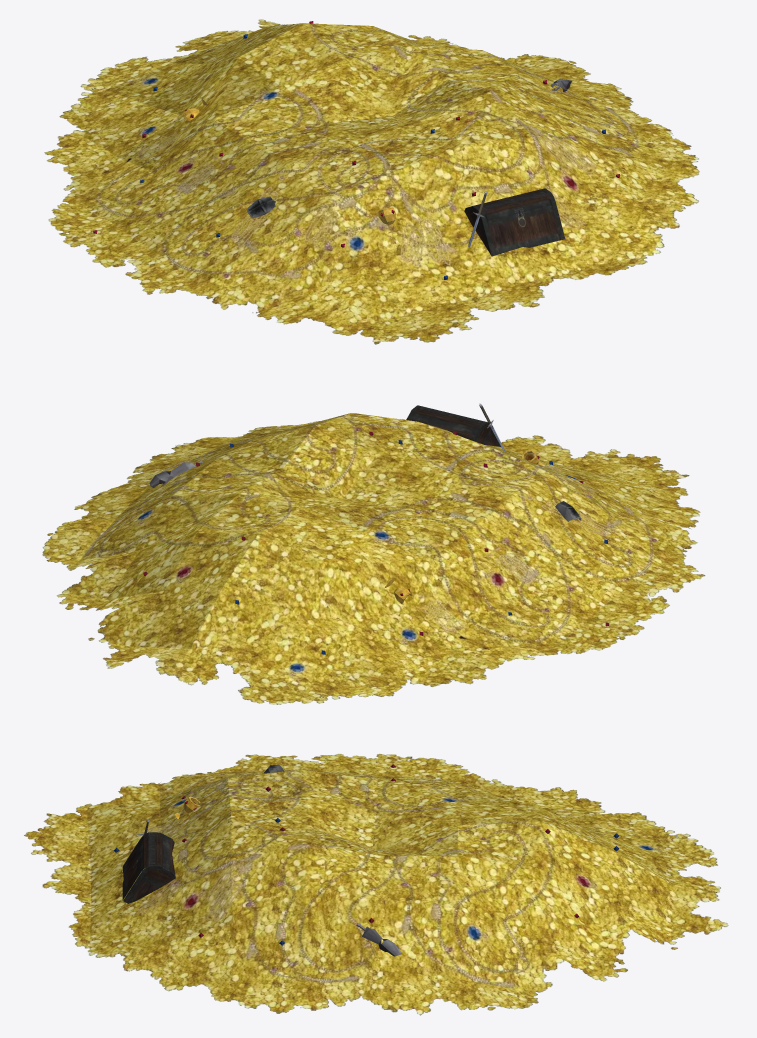
File: Gold_Bed.glb
The picture shows the model from 3 angles, top to bottom: view 1: azimuth 30°, elevation 25°; view 2: azimuth 150°, elevation 25°; view 3: azimuth 270°, elevation 25°; orthographic projection. The views are drawn at different scales.
Visible parts, largest first — view 1: Gold_Bed; view 2: Gold_Bed; view 3: Gold_Bed.
Boxes of the visible parts, left/top/right/bottom form: Gold_Bed: left=44, top=19, right=699, bottom=344; Gold_Bed: left=42, top=403, right=705, bottom=704; Gold_Bed: left=24, top=754, right=728, bottom=1015.
Bounding box in the file's own units: 5 × 0.7539 × 5.59.
1 material, 1 textured.
